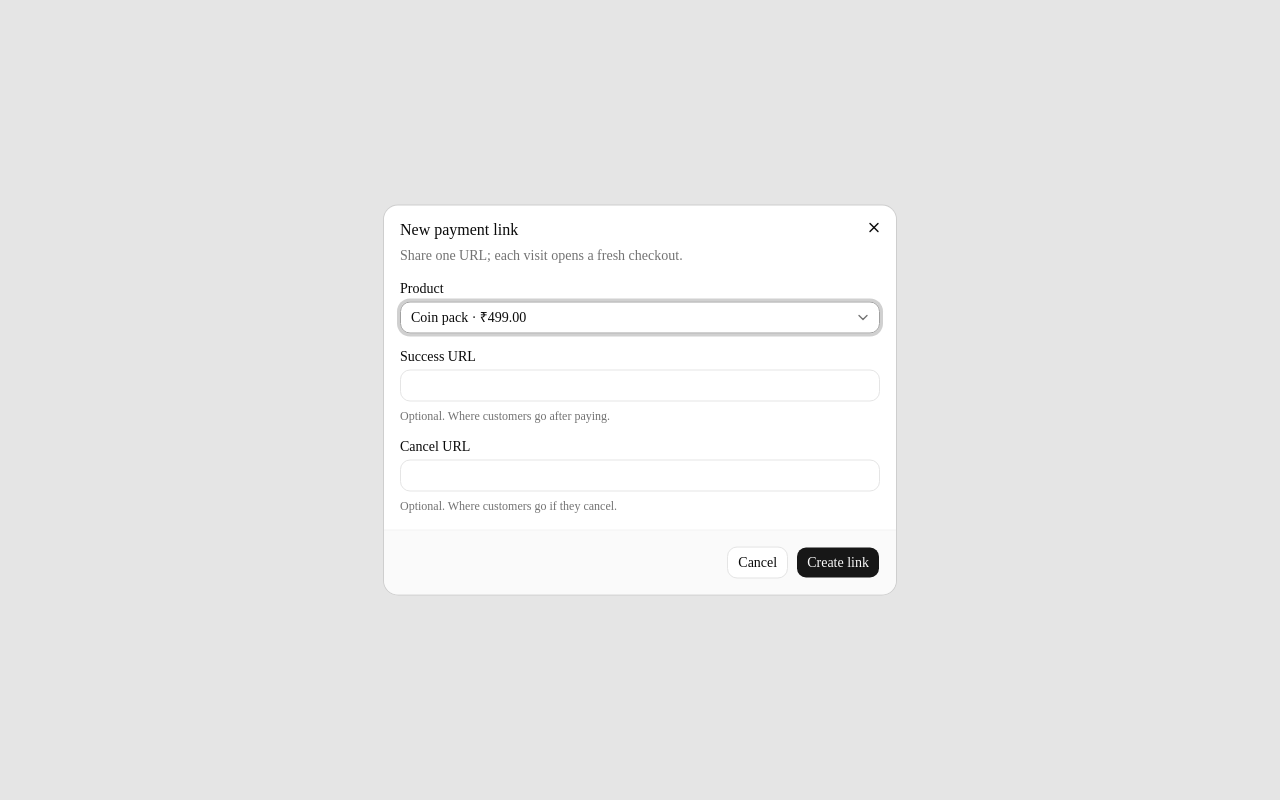
Test: PaymentLinkFormDialog › should_reject_invalid_redirect_url
This screenshot has width=1280, height=800.
In the field labelled "Success URL": (640, 386) [400,370,880,402], type "not a url"
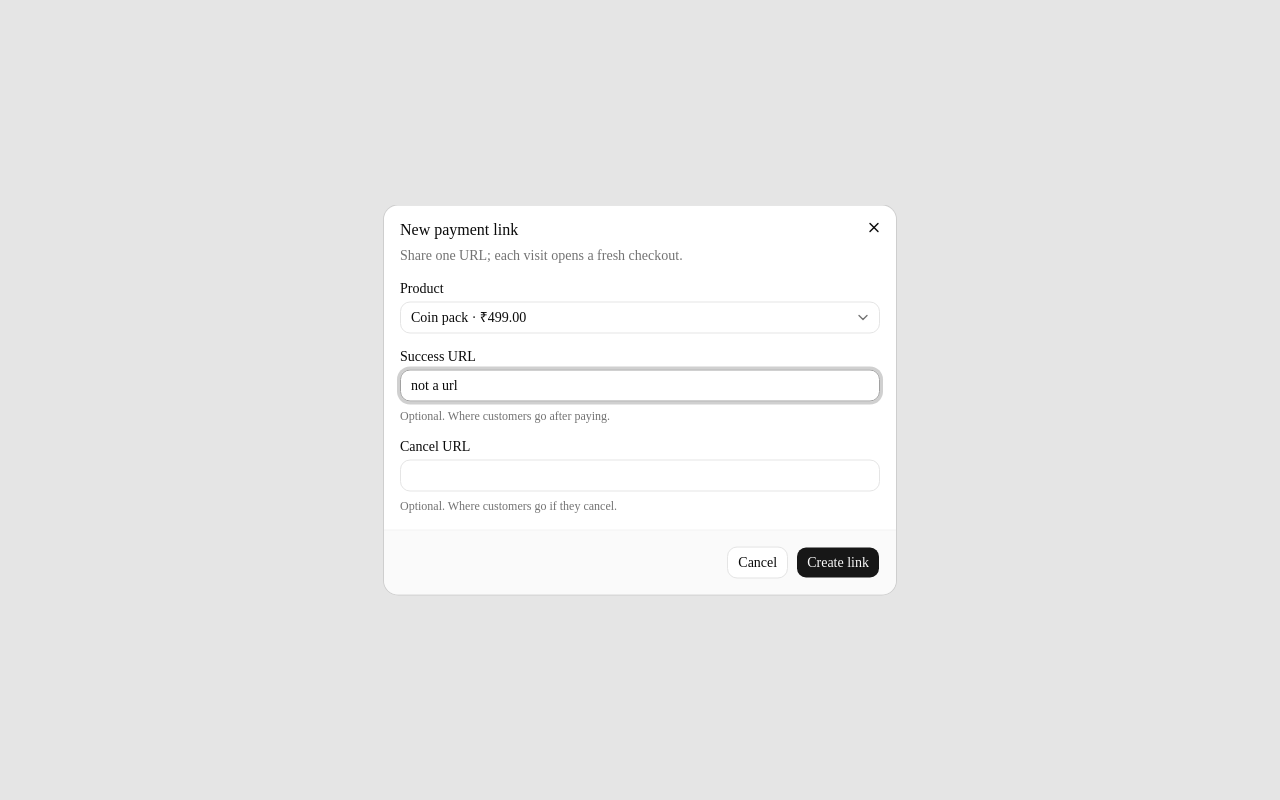
Click the button "Create link": (838, 562) [796,546,880,578]
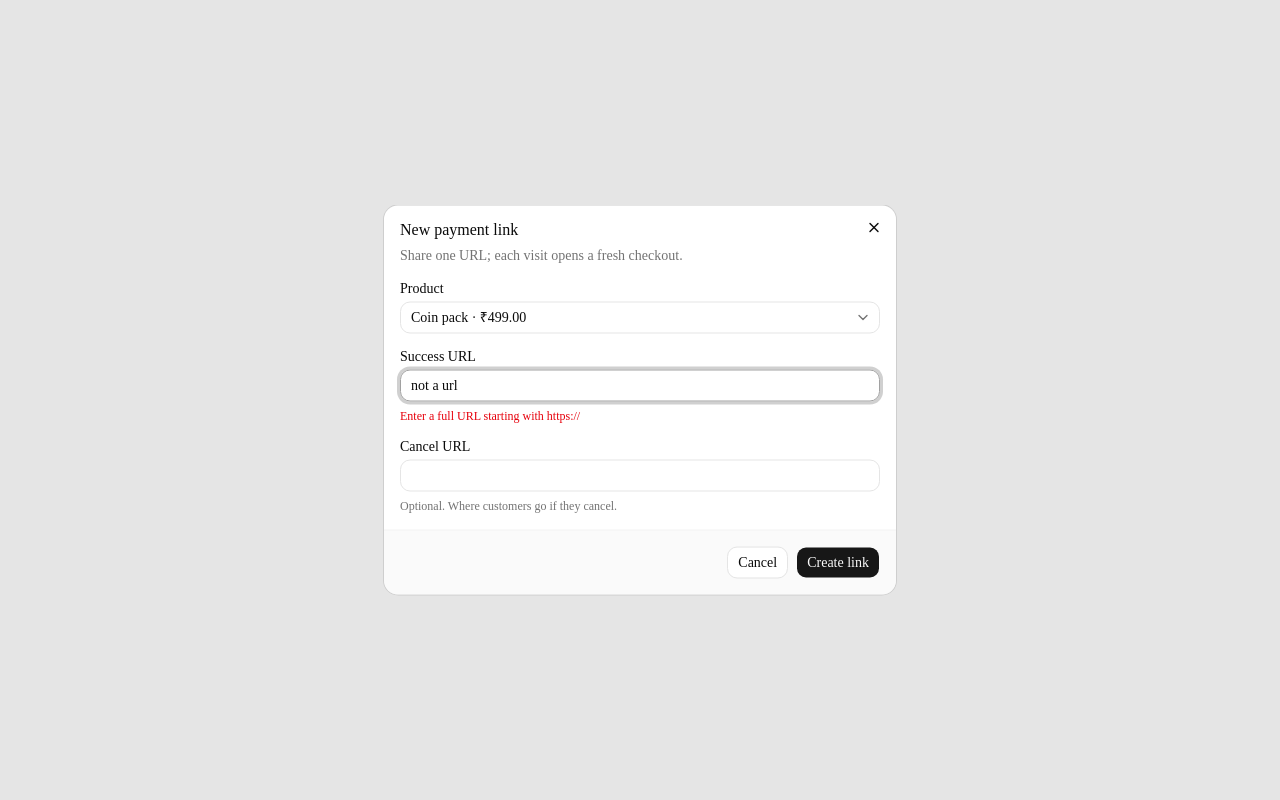
Now the text "Enter a full URL starting with https://" is shown, box [400,408,580,422]
